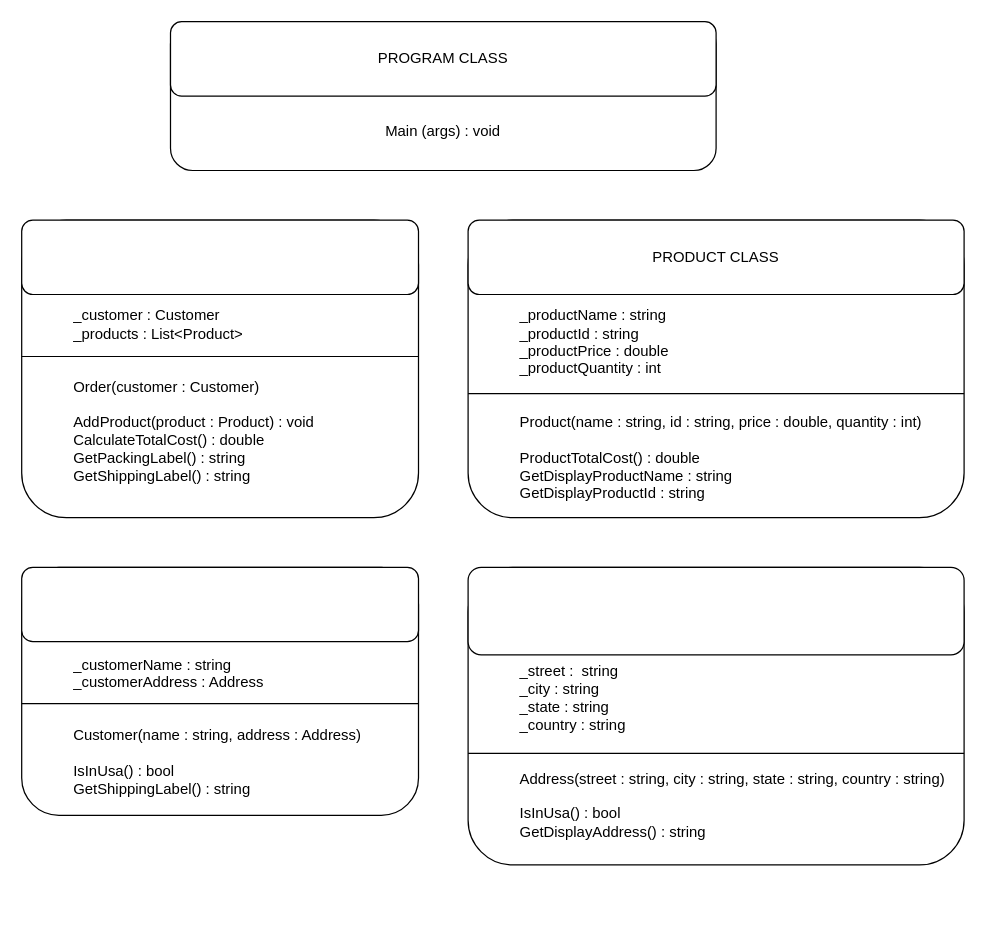
The diagram is 987 pixels wide and 951 high, and some of its shapes have lost their labels. Here are the shapes that lost their labels. From the top down, the centre of each, then its label:
At point (219, 256): "ORDER CLASS".
At point (219, 604): "CUSTOMER CLASS".
At point (715, 610): "ADDRESS CLASS".
